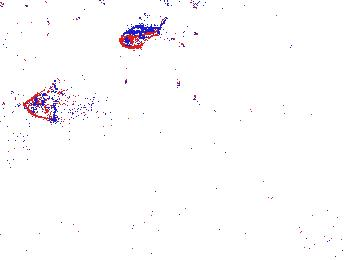X-ray fish: (22, 88, 92, 121)
red belly glassfish: (118, 18, 166, 51)
